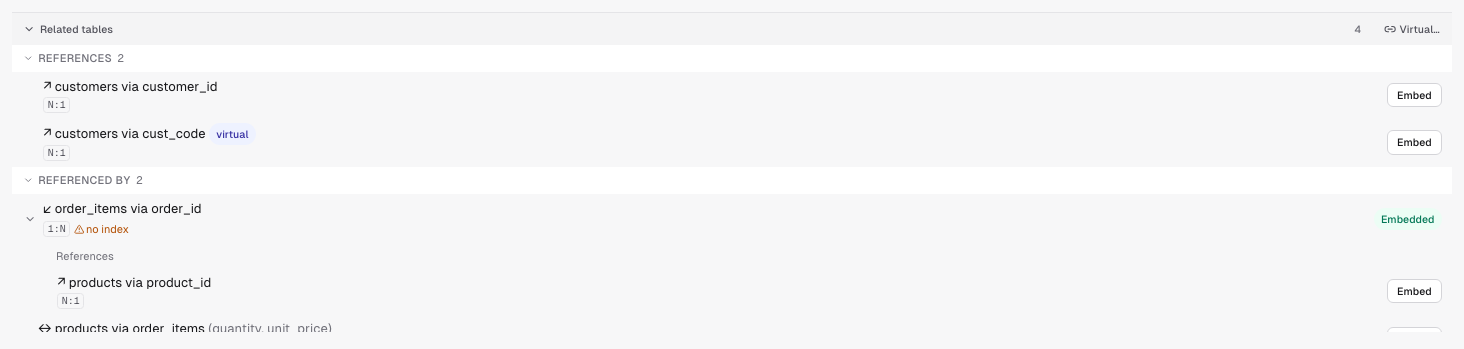
Test: RelatedTree › an embedded table opens to show what it references, so that can be embedded next
The width and height of the screenshot is (1464, 349).
Expected: the text "Embedded" is shown, [1374,208,1442,230]
Expected: the list item with test id "related-order_items/products" shows "↗ products via product_id", [57,275,211,290]
Click the button named "Hide tables related to order_items" at (30,219), box [24,213,36,225]
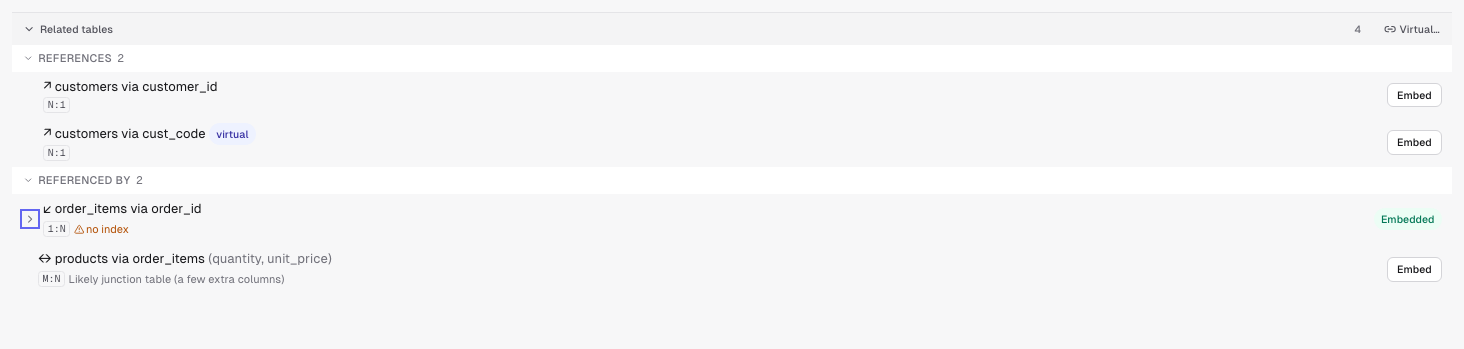
Expected: the list item with test id "related-order_items/products" is gone
